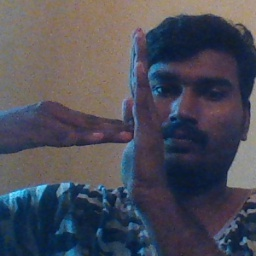Z: (55, 24, 174, 205)
